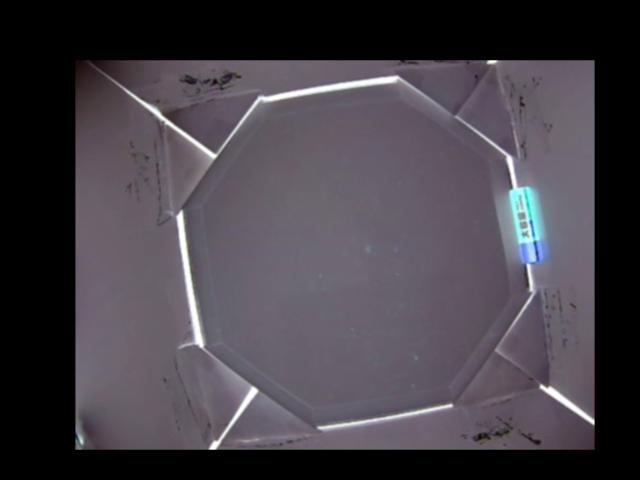Battery: (510, 185, 541, 264)
